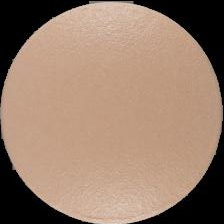67046-136: (0, 0, 224, 224)
